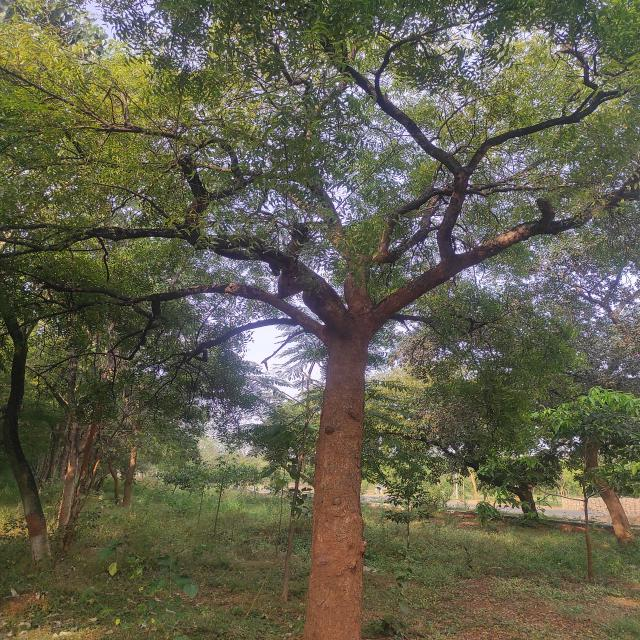Neem Tree: (1, 1, 591, 545)
